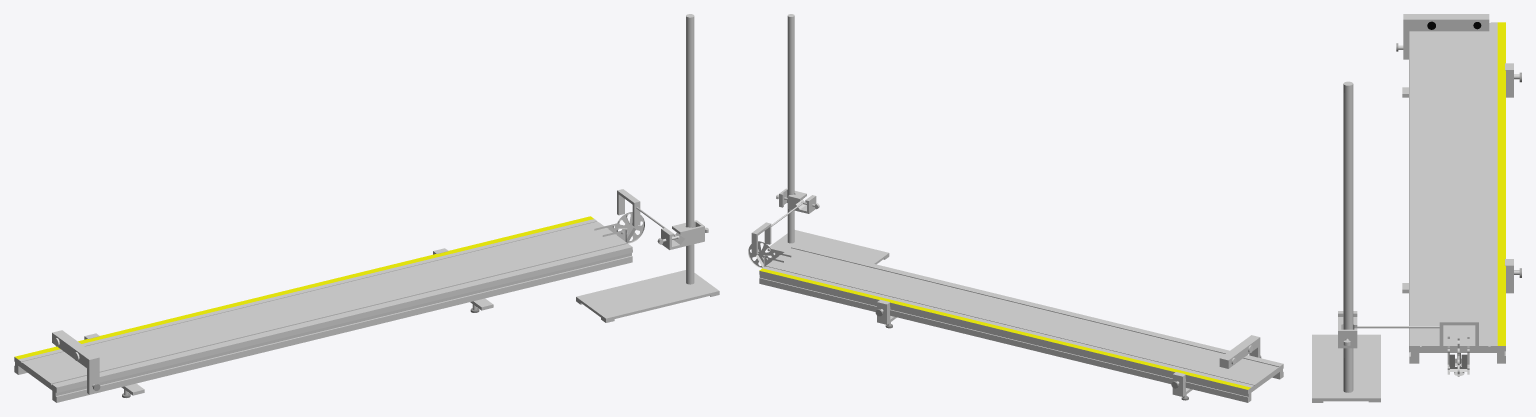
The model's file is Banco de Dinamica.glb.
3 views of the same model, side by side, from view 1: azimuth 30°, elevation 25°; view 2: azimuth 150°, elevation 25°; view 3: azimuth 270°, elevation 25° (orthographic). The views are drawn at different scales.
Parts seen in each view (by area): view 1: Geom3D_track2, Geom3D_platform, Geom3D, Geom3D_lab_stand, Geom3D_endpost, Geom3D_clamp2; view 2: Geom3D_track2, Geom3D, Geom3D_lab_stand, Geom3D_platform, Geom3D_endpost, Geom3D_clamp2; view 3: Geom3D_track2, Geom3D_platform, Geom3D_lab_stand, Geom3D, Geom3D_endpost, Geom3D_leg (×2), Geom3D_clamp2, Geom3D_photogate_head, Geom3D_pulley bracket, Geom3D_photogate_and_rod, Geom3D_pulley_clamp_frame.
Boxes of the visible parts, x1,y1,x2,y2 form: Geom3D_track2: [14, 219, 632, 402]; Geom3D_platform: [576, 270, 719, 322]; Geom3D: [14, 216, 593, 359]; Geom3D_lab_stand: [686, 14, 694, 284]; Geom3D_endpost: [52, 330, 99, 394]; Geom3D_clamp2: [661, 220, 704, 249]; Geom3D_track2: [759, 244, 1283, 402]; Geom3D: [759, 268, 1250, 389]; Geom3D_lab_stand: [787, 14, 794, 243]; Geom3D_platform: [767, 230, 889, 264]; Geom3D_endpost: [1219, 335, 1260, 368]; Geom3D_clamp2: [779, 188, 816, 213]; Geom3D_track2: [1409, 22, 1505, 363]; Geom3D_platform: [1312, 334, 1380, 402]; Geom3D_lab_stand: [1343, 81, 1353, 392]; Geom3D: [1497, 22, 1505, 345]; Geom3D_endpost: [1403, 14, 1489, 59]; Geom3D_leg (×2): [1402, 63, 1513, 293]; Geom3D_clamp2: [1338, 311, 1357, 348]; Geom3D_photogate_head: [1439, 318, 1478, 349]; Geom3D_pulley bracket: [1449, 354, 1467, 371]; Geom3D_photogate_and_rod: [1357, 326, 1439, 328]; Geom3D_pulley_clamp_frame: [1447, 336, 1469, 374].
Size of what is drawn, in the model's own units: 56.23 by 23.85 by 14.22.
